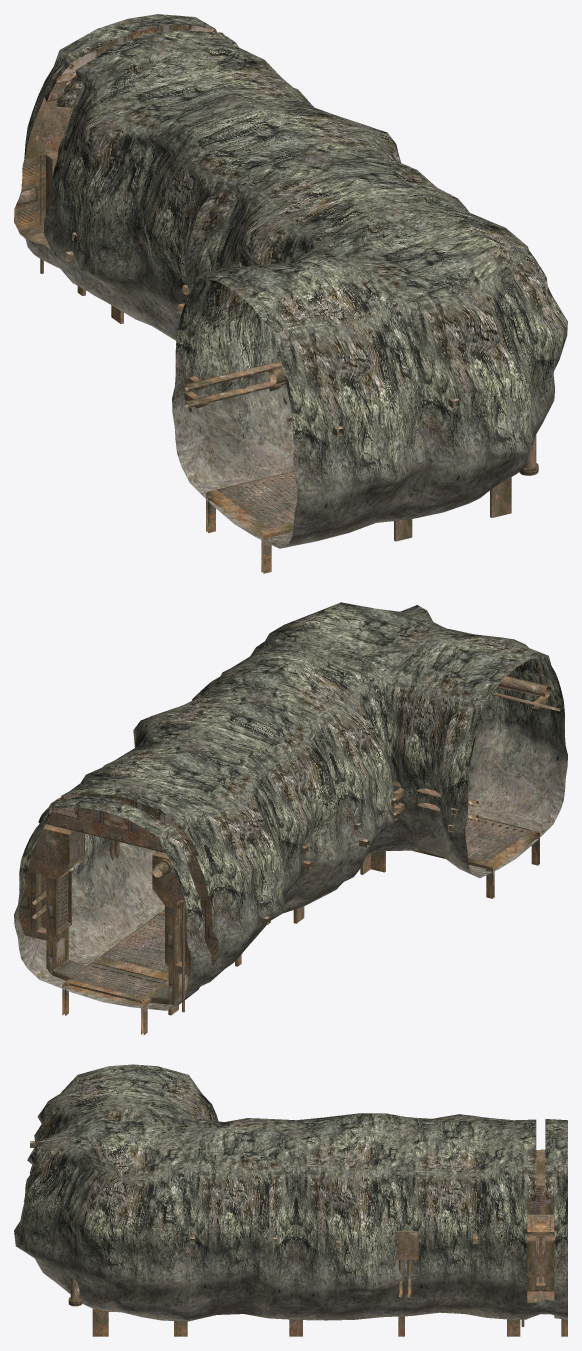
Rendered from poi_all_bunker_mad_bio_s01_r30_hall9_mesh_r30.fbx.
3 views of the same model, one above another, from view 1: azimuth 30°, elevation 25°; view 2: azimuth 150°, elevation 25°; view 3: azimuth 270°, elevation 25° (orthographic). The views are drawn at different scales.
Visible parts, largest first — view 1: mesh_node; view 2: mesh_node; view 3: mesh_node.
Boxes of the visible parts, x1,y1,x2,y2 form: mesh_node: (14,14,567,573); mesh_node: (14,602,567,1035); mesh_node: (14,1064,567,1336).
Bounding box in the file's own units: 10.03 × 7.73 × 20.39.
